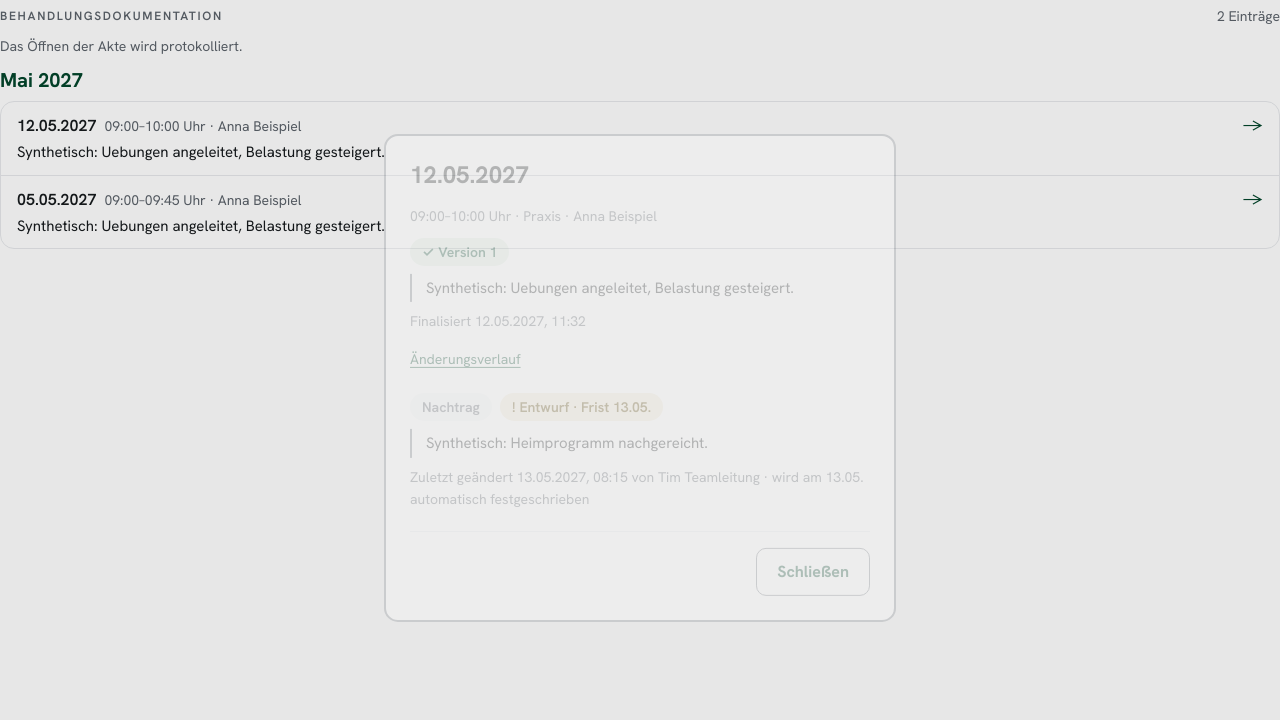
Test case: PatientRecordDocumentation (DOK-003, ROL-001) › nennt die finalisierende Person nur, wenn sie nicht die behandelnde ist (UX-005e)
What coordinates should you click on to do the following:
click the button that starts with "09:00–10:00 Uhr · Anna Beispiel"
I would click on:
 (57, 126)
Its box is [1,102,1279,175].
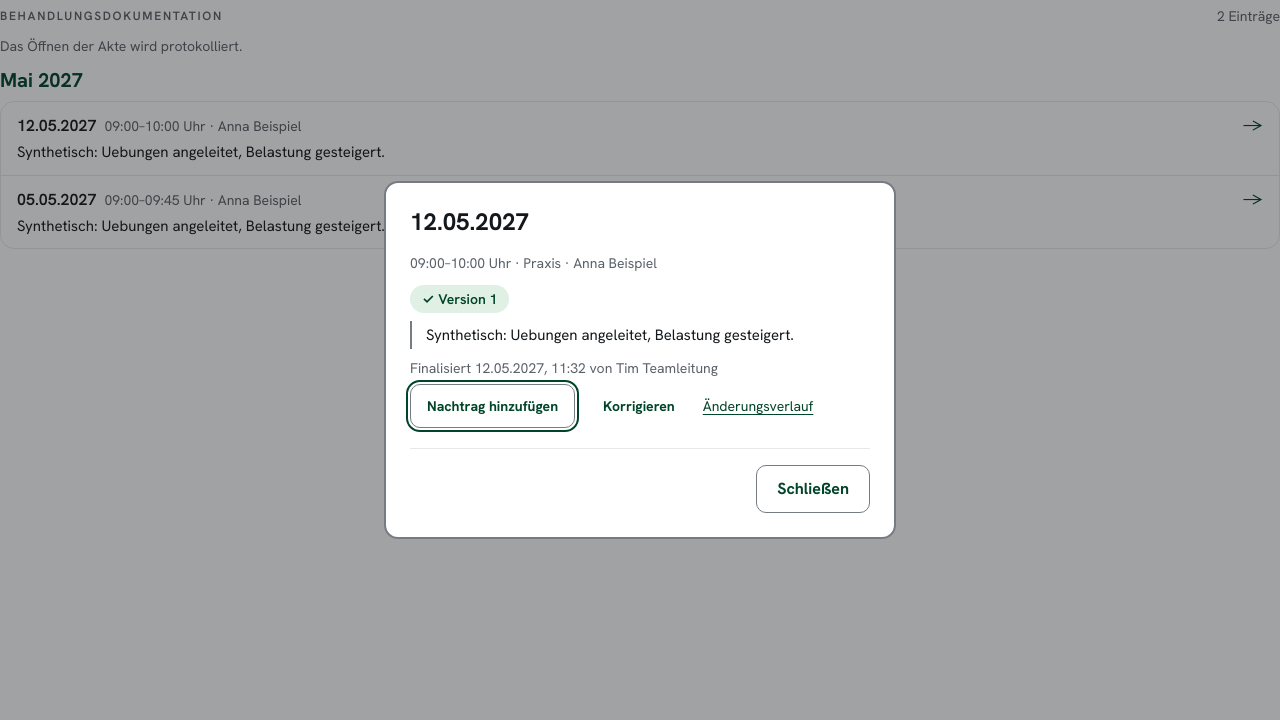
Check: the dialog "12.05.2027" shows "Finalisiert 12.05.2027, 11:32 von Tim Teamleitung", box [410,359,718,377]
What coordinates should you click on to do the following:
click the button "Schließen"
I would click on:
 (813, 489)
Its box is [756,465,870,513].
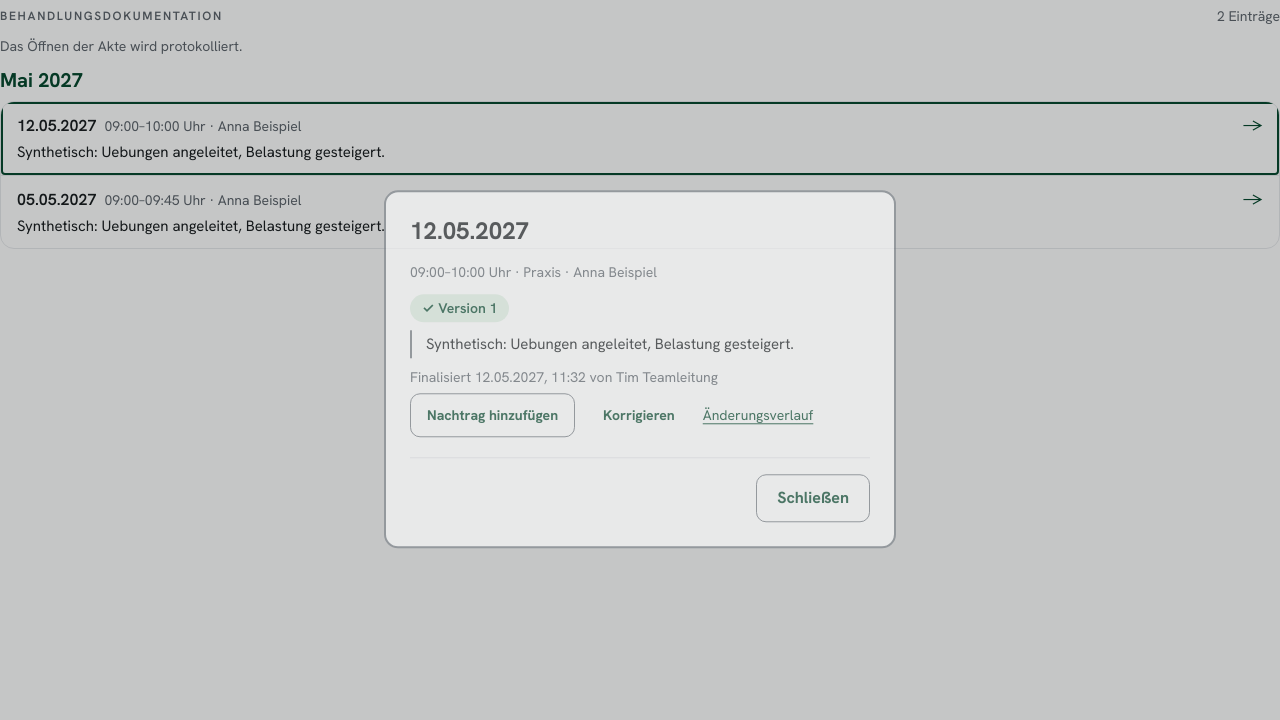
What coordinates should you click on to do the following:
click the button that starts with "09:00–09:45 Uhr · Anna Beispiel"
I would click on:
 (57, 199)
Its box is [1,176,1279,248].
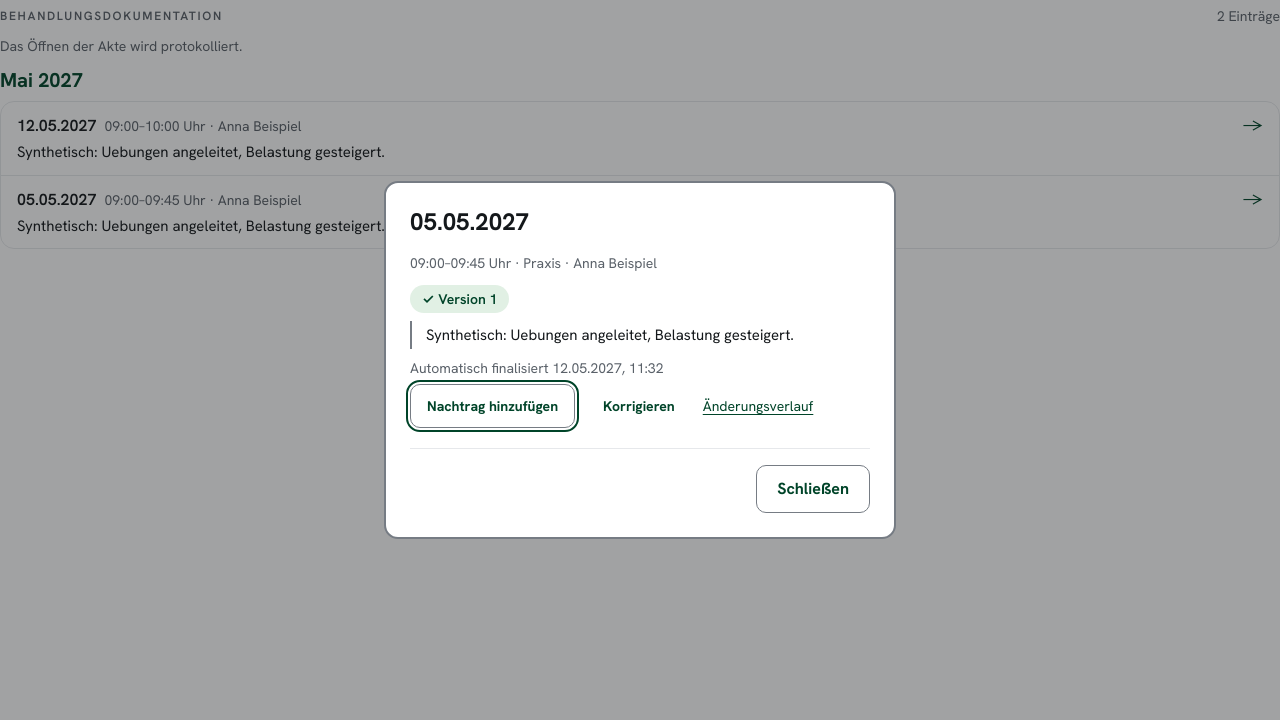
Check: the dialog "05.05.2027" shows "Automatisch finalisiert 12.05.2027, 11:32", box [410,359,664,377]
Check: the dialog "05.05.2027" no longer shows "von", box [384,181,896,539]
